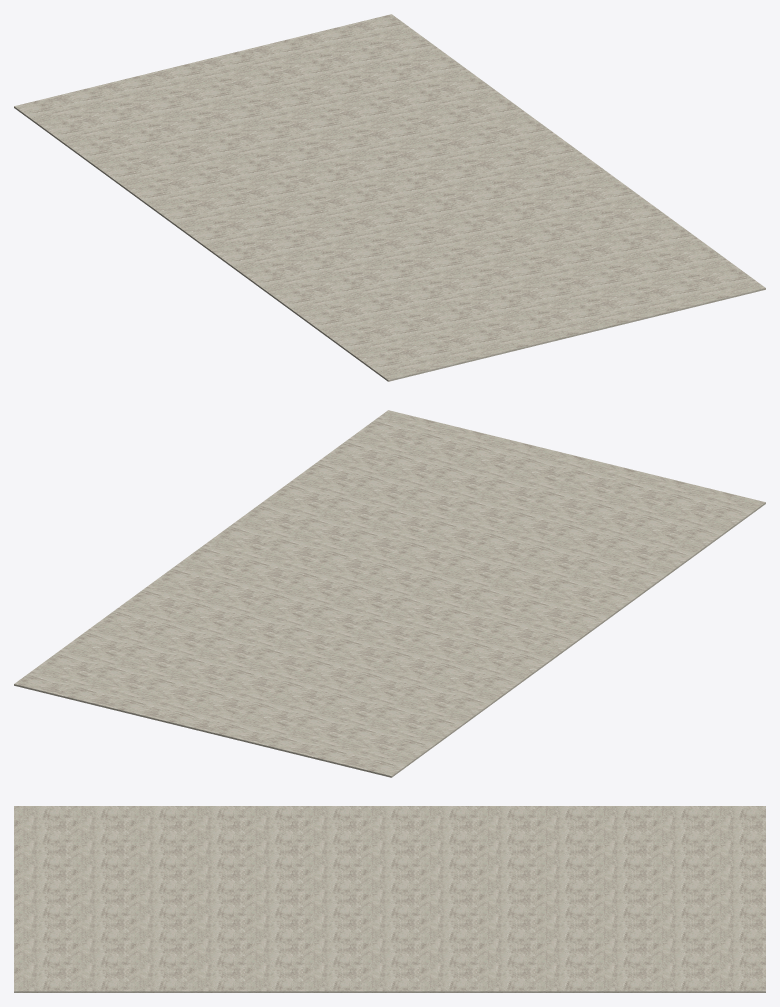
Rendered from ZigLev4.glb.
3 views of the same model, one above another, from view 1: azimuth 30°, elevation 25°; view 2: azimuth 150°, elevation 25°; view 3: azimuth 270°, elevation 25° (orthographic).
Visible parts, largest first — view 1: ZigLev4; view 2: ZigLev4; view 3: ZigLev4.
Part boxes in pixels (box(x1,y1,x2,y2)): ZigLev4: box(14, 14, 765, 381); ZigLev4: box(14, 410, 765, 777); ZigLev4: box(14, 806, 765, 992).
Bounding box in the file's own units: 966 × 4 × 1658.
Materials: 1 (1 with a texture image).
